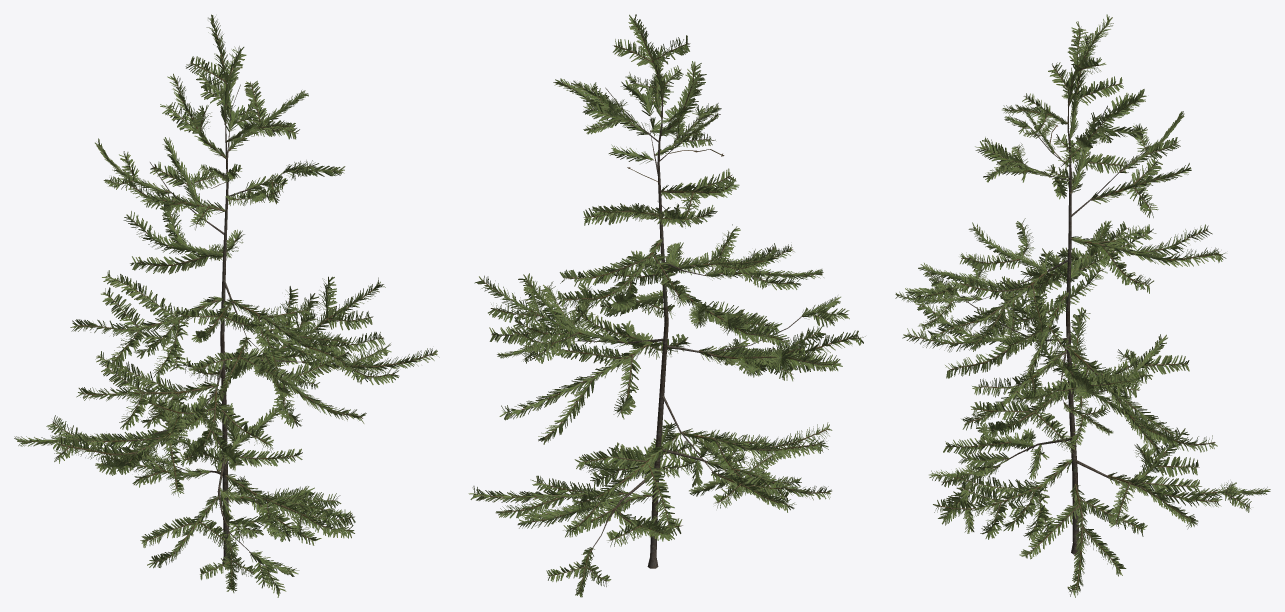
File: fir_sapling.gltf
3 renders of one model, left to right at view 1: azimuth 30°, elevation 25°; view 2: azimuth 150°, elevation 25°; view 3: azimuth 270°, elevation 25°, orthographic. The views are drawn at different scales.
Visible parts, largest first — view 1: fir_sapling; view 2: fir_sapling; view 3: fir_sapling.
Boxes of the visible parts, x1,y1,x2,y2 form: fir_sapling: (14,14,439,597); fir_sapling: (468,14,865,597); fir_sapling: (895,14,1270,597).
Bounding box in the file's own units: 0.8611 × 1.3 × 0.8222.
2 materials, 2 textured.
